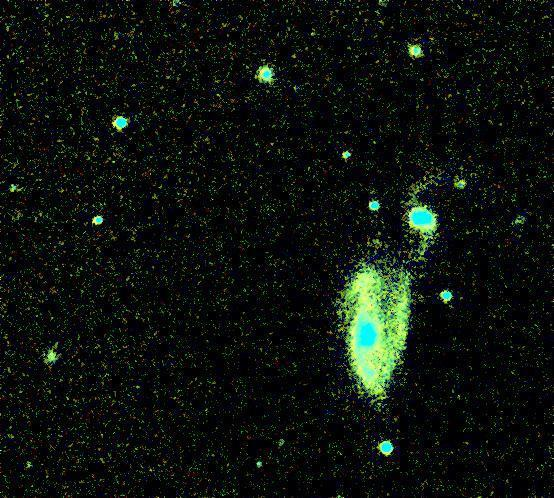star: (361, 226, 391, 256)
